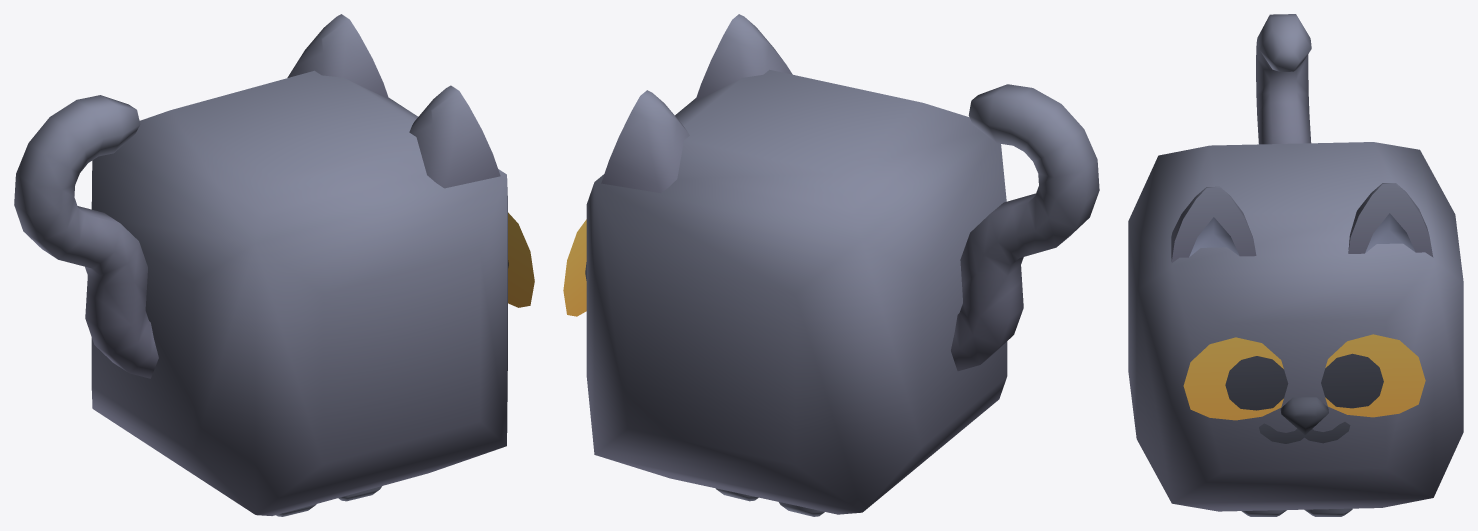
Rendered from animal-cat.glb.
The picture shows the model from 3 angles, left to right: view 1: azimuth 30°, elevation 25°; view 2: azimuth 150°, elevation 25°; view 3: azimuth 270°, elevation 25°; orthographic projection. The views are drawn at different scales.
Parts seen in each view (by area): view 1: body.002, tail; view 2: body.002, tail; view 3: body.002, tail, Group.
Part boxes in pixels (left/top/right/bottom): body.002: left=91, top=14, right=534, bottom=515; tail: left=14, top=95, right=158, bottom=378; body.002: left=563, top=14, right=1007, bottom=514; tail: left=951, top=84, right=1099, bottom=371; body.002: left=1128, top=142, right=1463, bottom=511; tail: left=1256, top=14, right=1311, bottom=144; Group: left=1259, top=422, right=1350, bottom=443.
Size of the model in its own units: 3.66 by 3.28 by 2.59.
1 material, 1 textured.
